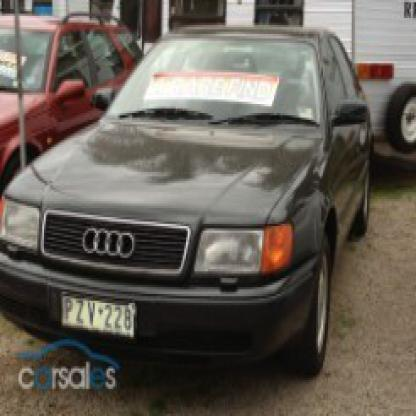Vehicle: (2, 30, 375, 384)
